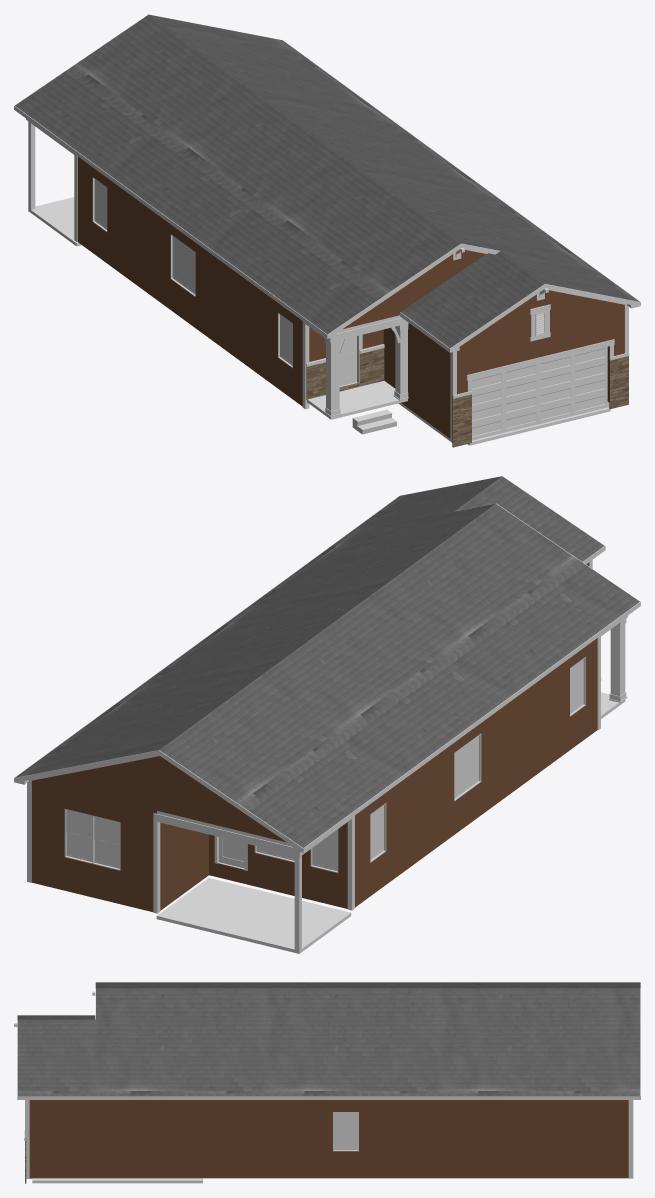
The model's file is 129-1335-dm-farmhouse.glb.
3 renders of one model, top to bottom at view 1: azimuth 30°, elevation 25°; view 2: azimuth 150°, elevation 25°; view 3: azimuth 270°, elevation 25°, orthographic. The views are drawn at different scales.
Visible parts, largest first — view 1: Basic Roof Wood Rafter 4" - Asphalt Shingle - Insulated_469e, Basic Wall BSB Exterior - Stud_3.5" - Sheathing_0.5" - _a010, Traditional - BSB Exterior - Overhead Garage Door - Clo_c90a, Basic Wall BSB Exterior - Stud_3.5" - Sheathing_0.5" - _44ac, Basic Wall BSB Exterior - Stud_3.5" - Sheathing_0.5" - _3b4a, Basic Wall BSB Exterior - Stud_3.5" - Sheathing_0.5" - _2803, Fascia Fascia-Flat 1x6 w/12" Soffit Bd [4531046], Basic Wall BSB Exterior - Stud_3.5" - Sheathing_0.5" - _596e, Basic Wall BSB Exterior - Stud_3.5" - Sheathing_0.5" - _5737, Basic Wall BSB Exterior - Stone Veneer_2" [4522312], Floor BSB Concrete Slab - 4" - Slope Option [4260174], Basic Wall BSB Exterior - Stone Veneer_2" [4522314] (+14 smaller); view 2: Basic Roof Wood Rafter 4" - Asphalt Shingle - Insulated_469e, Basic Wall BSB Exterior - Stud_3.5" - Sheathing_0.5" - _a010, Basic Wall BSB Exterior - Stud_3.5" - Sheathing_0.5" - _e5d4, Floor BSB Concrete Slab - 4" - Slope Option [4260206], Basic Wall BSB Exterior - Stud_3.5" - Sheathing_0.5" - _44ac, Basic Wall BSB Exterior - Stud_3.5" - Sheathing_0.5" - _85fa, Basic Wall BSB Exterior - Stud_3.5" - Sheathing_0.5" - _a39f, Fascia Fascia-Flat 1x6 w/12" Soffit Bd [4531046], Basic Wall BSB Exterior - Stud_3.5" - Sheathing_0.5" - _99a9, Trim - Corner Boards2 Trim - Corner Boards [4522420], BSB Single Hung 3050 SH w/ Sill [4265704], BSB Single Hung 3050 SH w/ Sill [4265751] (+8 smaller); view 3: Basic Roof Wood Rafter 4" - Asphalt Shingle - Insulated_469e, Basic Wall BSB Exterior - Stud_3.5" - Sheathing_0.5" - _4cd1, Basic Wall BSB Exterior - Stud_3.5" - Sheathing_0.5" - _eddb, Basic Wall BSB Exterior - Stud_3.5" - Sheathing_0.5" - _1699, Fascia Fascia-Flat 1x6 w/12" Soffit Bd [4531046], BSB Single Hung 3050 SH w/ Sill [4265274], Floor BSB Concrete Slab - 4" - Slope Option [4274134], Trim - Corner Boards2 Trim - Corner Boards [4522420].
Boxes of the visible parts, x1,y1,x2,y2 form: Basic Roof Wood Rafter 4" - Asphalt Shingle - Insulated_469e: (15, 14, 639, 347); Basic Wall BSB Exterior - Stud_3.5" - Sheathing_0.5" - _a010: (77, 156, 220, 345); Traditional - BSB Exterior - Overhead Garage Door - Clo_c90a: (472, 346, 608, 440); Basic Wall BSB Exterior - Stud_3.5" - Sheathing_0.5" - _44ac: (220, 261, 300, 404); Basic Wall BSB Exterior - Stud_3.5" - Sheathing_0.5" - _3b4a: (457, 304, 624, 402); Basic Wall BSB Exterior - Stud_3.5" - Sheathing_0.5" - _2803: (383, 323, 450, 438); Fascia Fascia-Flat 1x6 w/12" Soffit Bd [4531046]: (14, 14, 640, 352); Basic Wall BSB Exterior - Stud_3.5" - Sheathing_0.5" - _596e: (465, 290, 622, 342); Basic Wall BSB Exterior - Stud_3.5" - Sheathing_0.5" - _5737: (343, 250, 485, 328); Basic Wall BSB Exterior - Stone Veneer_2" [4522312]: (452, 353, 628, 447); Floor BSB Concrete Slab - 4" - Slope Option [4260174]: (307, 380, 407, 419); Basic Wall BSB Exterior - Stone Veneer_2" [4522314]: (306, 345, 384, 399); Basic Roof Wood Rafter 4" - Asphalt Shingle - Insulated_469e: (15, 476, 639, 847); Basic Wall BSB Exterior - Stud_3.5" - Sheathing_0.5" - _a010: (355, 704, 507, 907); Basic Wall BSB Exterior - Stud_3.5" - Sheathing_0.5" - _e5d4: (31, 780, 156, 911); Floor BSB Concrete Slab - 4" - Slope Option [4260206]: (156, 878, 351, 953); Basic Wall BSB Exterior - Stud_3.5" - Sheathing_0.5" - _44ac: (507, 640, 593, 795); Basic Wall BSB Exterior - Stud_3.5" - Sheathing_0.5" - _85fa: (33, 756, 286, 842); Basic Wall BSB Exterior - Stud_3.5" - Sheathing_0.5" - _a39f: (209, 822, 347, 908); Fascia Fascia-Flat 1x6 w/12" Soffit Bd [4531046]: (14, 476, 640, 852); Basic Wall BSB Exterior - Stud_3.5" - Sheathing_0.5" - _99a9: (160, 822, 208, 910); Trim - Corner Boards2 Trim - Corner Boards [4522420]: (27, 560, 600, 913); BSB Single Hung 3050 SH w/ Sill [4265704]: (64, 809, 92, 863); BSB Single Hung 3050 SH w/ Sill [4265751]: (92, 815, 120, 870); Basic Roof Wood Rafter 4" - Asphalt Shingle - Insulated_469e: (17, 982, 640, 1096); Basic Wall BSB Exterior - Stud_3.5" - Sheathing_0.5" - _4cd1: (205, 1100, 628, 1178); Basic Wall BSB Exterior - Stud_3.5" - Sheathing_0.5" - _eddb: (100, 1100, 204, 1178); Basic Wall BSB Exterior - Stud_3.5" - Sheathing_0.5" - _1699: (29, 1100, 100, 1178); Fascia Fascia-Flat 1x6 w/12" Soffit Bd [4531046]: (17, 982, 640, 1099); BSB Single Hung 3050 SH w/ Sill [4265274]: (333, 1112, 358, 1151); Floor BSB Concrete Slab - 4" - Slope Option [4274134]: (26, 1178, 202, 1183); Trim - Corner Boards2 Trim - Corner Boards [4522420]: (25, 1100, 633, 1178).
Size of the model in its own units: 9.49 by 5.58 by 21.99.
3 materials, 2 textured.
